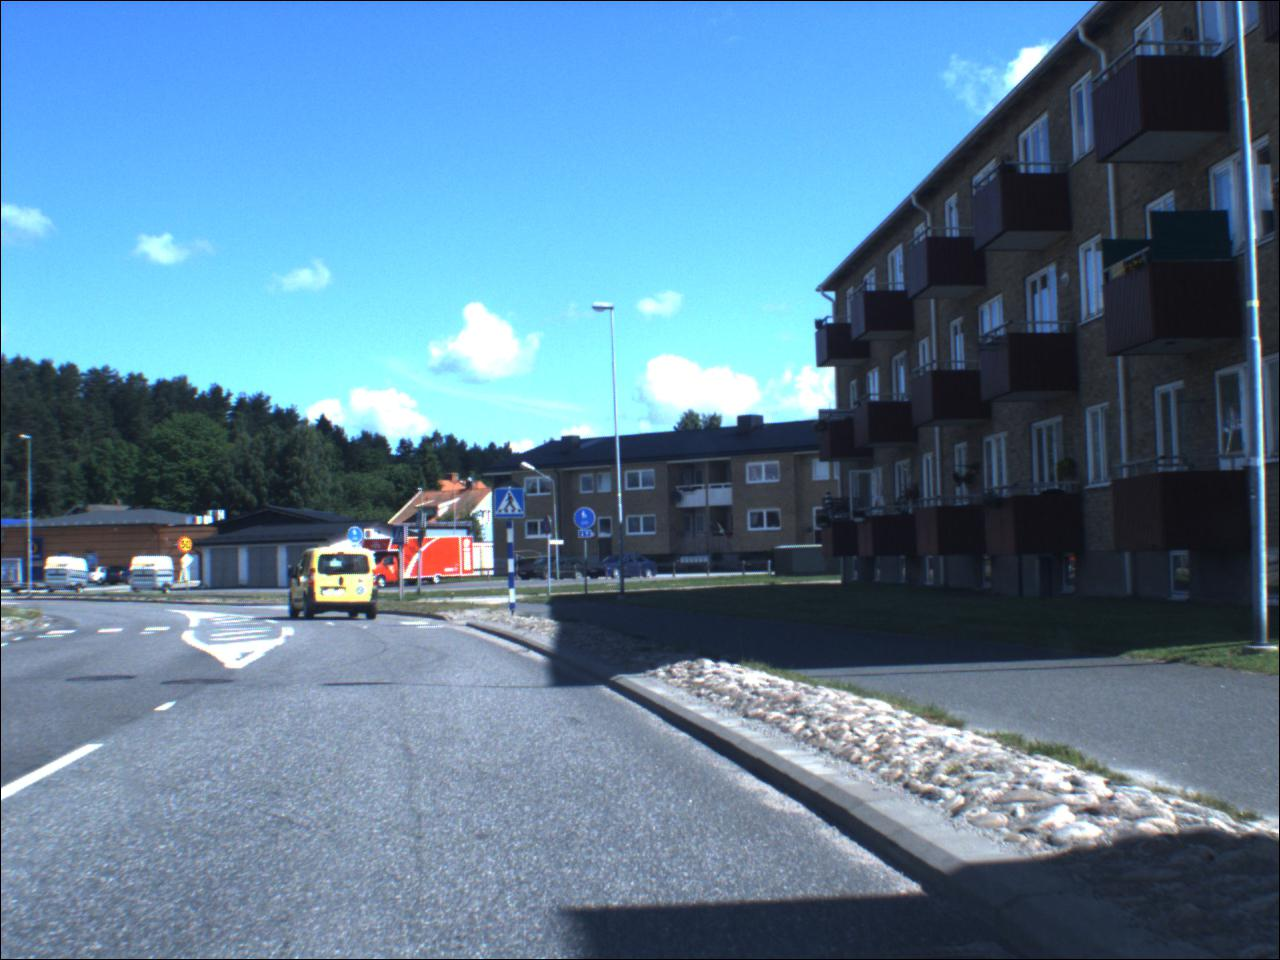50_SIGN: (181, 537, 197, 557)
PEDESTRIAN_CROSSING: (497, 491, 526, 521)
PRIORITY_ROAD: (182, 555, 196, 568)
